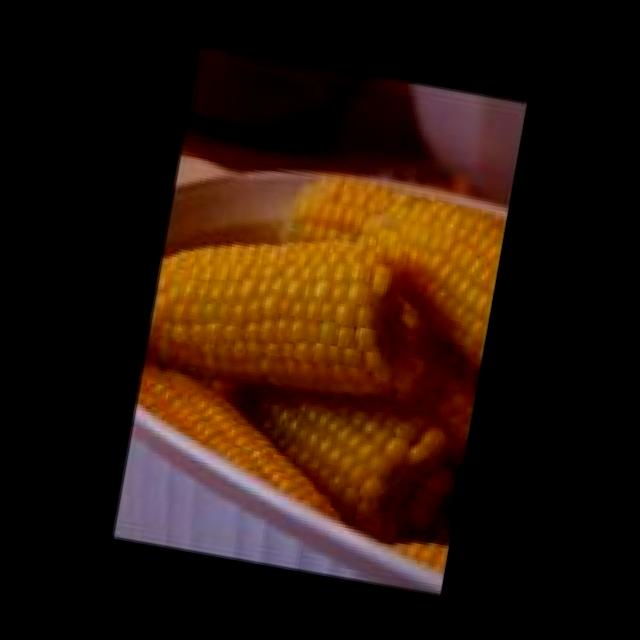corn: (139, 176, 503, 584)
